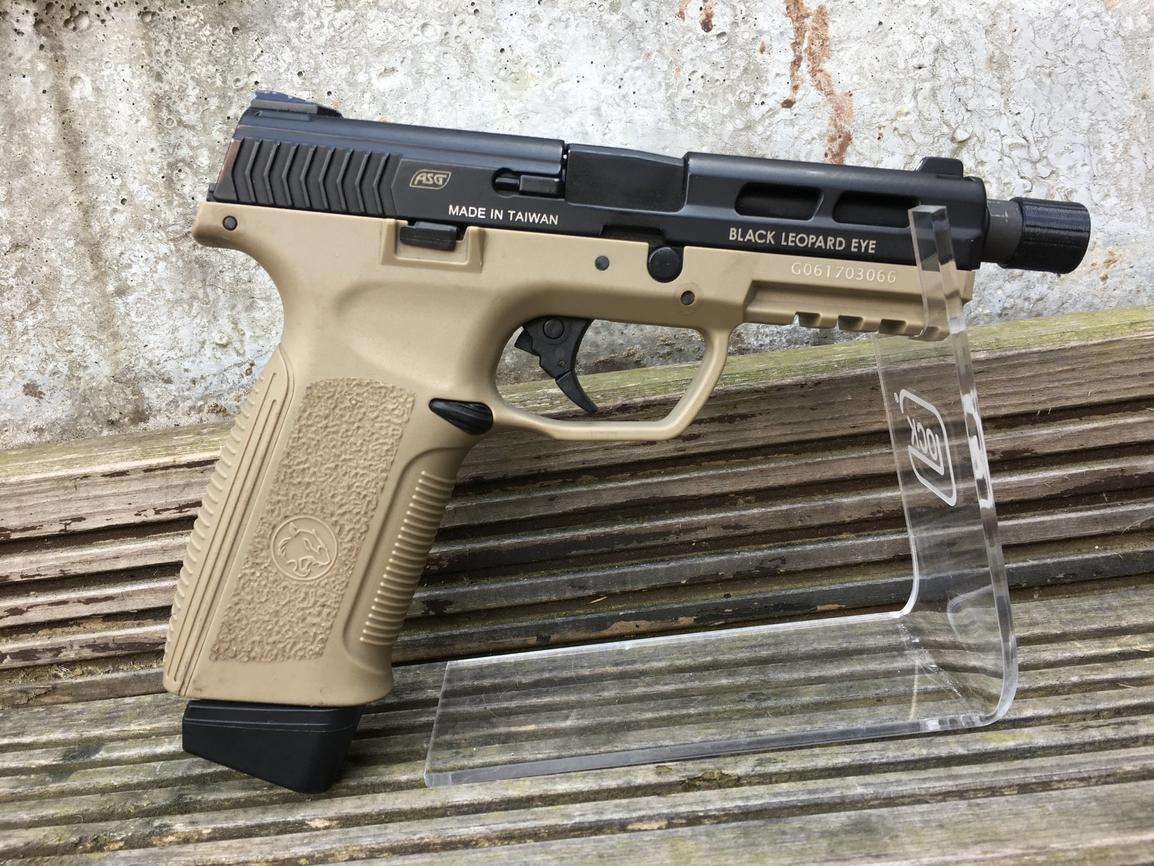asg_ics_ble_xae: (193, 88, 1099, 707)
